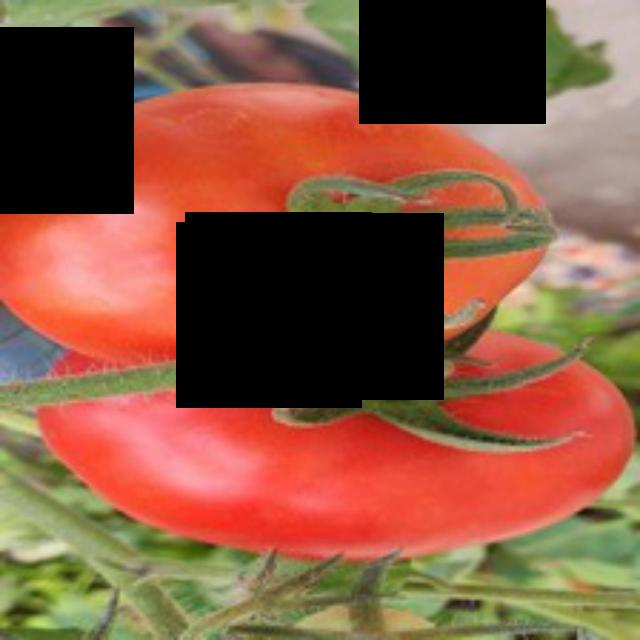tomato: (1, 56, 563, 359), (28, 297, 637, 574)
